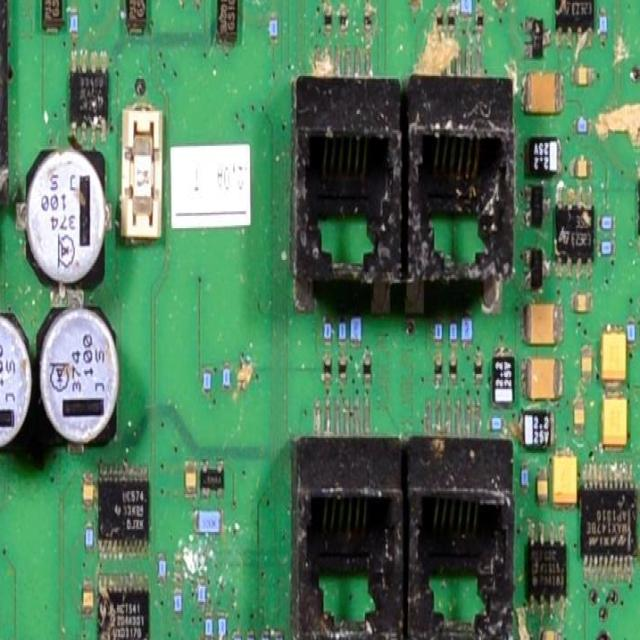IC: (577, 456, 638, 586), (95, 464, 152, 559), (95, 577, 148, 640), (554, 0, 596, 52), (638, 159, 640, 254)
capacitor: (549, 450, 582, 517), (526, 359, 570, 408), (526, 66, 564, 116), (603, 391, 632, 448), (528, 301, 567, 343), (601, 328, 629, 382), (567, 156, 597, 182), (536, 464, 551, 507), (183, 467, 199, 502), (582, 348, 595, 385), (572, 292, 592, 313), (538, 625, 564, 640), (571, 395, 583, 427), (81, 582, 92, 615), (82, 484, 96, 509), (495, 0, 508, 9), (408, 0, 420, 9), (638, 482, 640, 521), (639, 310, 640, 353), (639, 541, 640, 582)
transistor: (520, 170, 548, 234), (520, 11, 552, 63), (522, 242, 551, 298)
